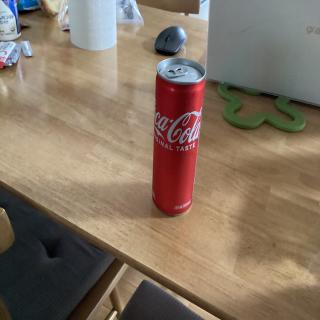cocacola: (151, 56, 206, 220)
